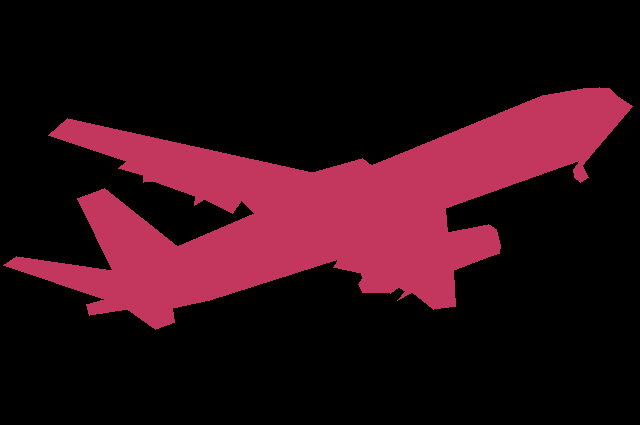Airplane: (3, 87, 632, 329)
